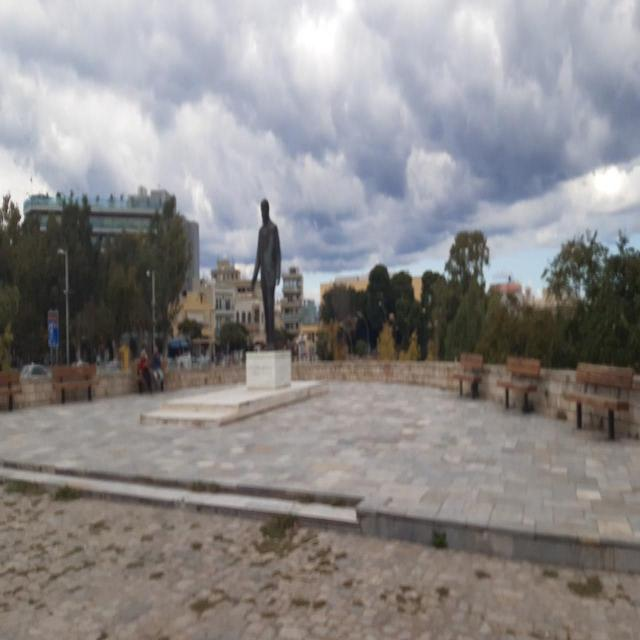Venizelos: (248, 199, 284, 349)
